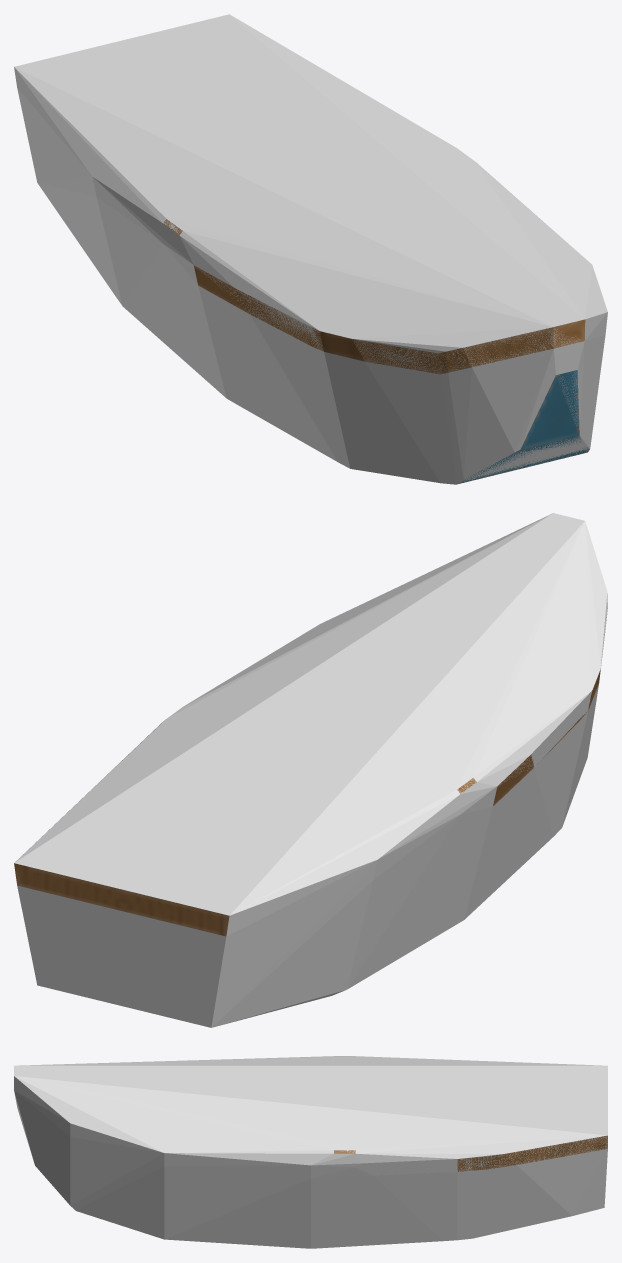
File: rowing_boat.glb
3 renders of one model, top to bottom at view 1: azimuth 30°, elevation 25°; view 2: azimuth 150°, elevation 25°; view 3: azimuth 270°, elevation 25°, orthographic. The views are drawn at different scales.
Parts seen in each view (by area): view 1: COL_rowing_boat_00, gunwale, hull; view 2: COL_rowing_boat_00, gunwale; view 3: COL_rowing_boat_00, gunwale.
Part boxes in pixels (bbox=[...]): COL_rowing_boat_00: bbox=[14, 14, 607, 484]; gunwale: bbox=[193, 265, 585, 374]; hull: bbox=[456, 370, 589, 484]; COL_rowing_boat_00: bbox=[14, 513, 607, 1027]; gunwale: bbox=[14, 669, 600, 936]; COL_rowing_boat_00: bbox=[14, 1056, 607, 1248]; gunwale: bbox=[457, 1135, 607, 1171].
Bounding box in the file's own units: 1.03 × 0.6819 × 2.63.
Materials: 2 (2 with a texture image).
